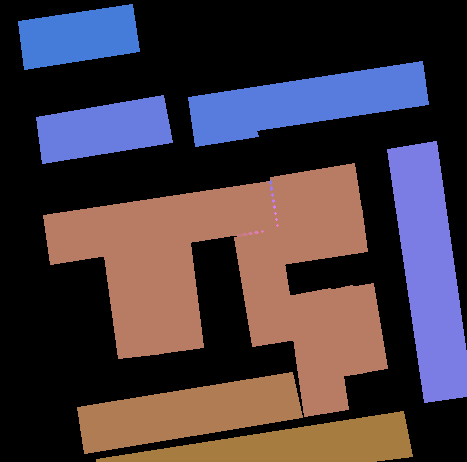parkingspot: (387, 141, 467, 402), (188, 61, 428, 146), (43, 181, 277, 264), (77, 372, 302, 453), (96, 411, 412, 462), (36, 95, 172, 163), (18, 4, 139, 69), (287, 288, 348, 416), (234, 228, 296, 346), (104, 249, 163, 358), (146, 242, 203, 353), (270, 163, 361, 222), (277, 206, 367, 264), (328, 285, 366, 376), (349, 283, 387, 372)
